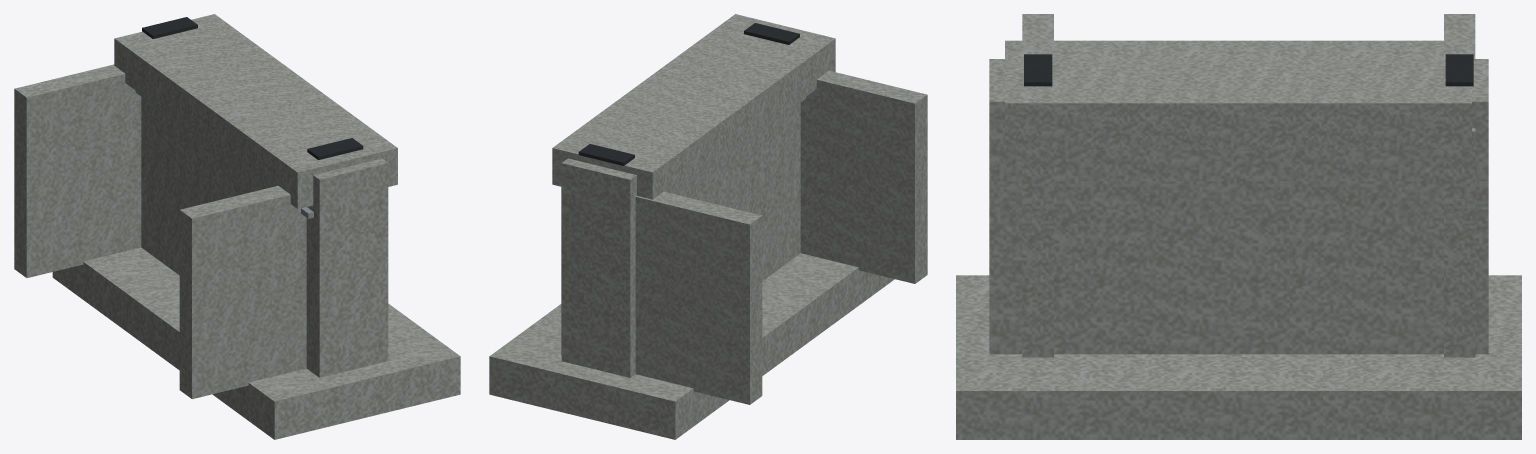
The model's file is PZ_07_AbutmentEnd.glb.
The picture shows the model from 3 angles, left to right: view 1: azimuth 30°, elevation 25°; view 2: azimuth 150°, elevation 25°; view 3: azimuth 270°, elevation 25°; orthographic projection. The views are drawn at different scales.
Visible parts, largest first — view 1: ABUT_Backwall, ABUT_BearingSeat, ABUT_WingWall_R, ABUT_WingWall_L, ABUT_FoundationFoot, ABUT_SeatPad_R, ABUT_SeatPad_L, ABUT_FaceDrip; view 2: ABUT_Backwall, ABUT_BearingSeat, ABUT_WingWall_L, ABUT_WingWall_R, ABUT_FoundationFoot, ABUT_SeatPad_L, ABUT_SeatPad_R; view 3: ABUT_Backwall, ABUT_FoundationFoot, ABUT_BearingSeat, ABUT_WingWall_L, ABUT_WingWall_R, ABUT_SeatPad_L, ABUT_SeatPad_R.
Part boxes in pixels (box(x1,y1,x2,y2)): ABUT_Backwall: box(141, 97, 388, 377); ABUT_BearingSeat: box(114, 14, 397, 208); ABUT_WingWall_R: box(179, 185, 306, 399); ABUT_WingWall_L: box(14, 64, 141, 277); ABUT_FoundationFoot: box(52, 247, 460, 439); ABUT_SeatPad_R: box(307, 138, 363, 159); ABUT_SeatPad_L: box(142, 17, 197, 38); ABUT_FaceDrip: box(135, 91, 313, 218); ABUT_Backwall: box(561, 103, 800, 377); ABUT_BearingSeat: box(552, 14, 835, 199); ABUT_WingWall_L: box(561, 178, 762, 404); ABUT_WingWall_R: box(800, 70, 927, 283); ABUT_FoundationFoot: box(489, 253, 894, 439); ABUT_SeatPad_L: box(578, 144, 634, 165); ABUT_SeatPad_R: box(744, 23, 799, 44); ABUT_Backwall: box(989, 59, 1488, 354); ABUT_FoundationFoot: box(956, 275, 1521, 439); ABUT_BearingSeat: box(1005, 40, 1471, 149); ABUT_WingWall_L: box(1444, 14, 1475, 357); ABUT_WingWall_R: box(1022, 14, 1053, 357); ABUT_SeatPad_L: box(1445, 54, 1473, 86); ABUT_SeatPad_R: box(1024, 54, 1052, 86).
Size of the model in its own units: 4.3 by 4.18 by 6.82.
Materials: 3 (3 with a texture image).
